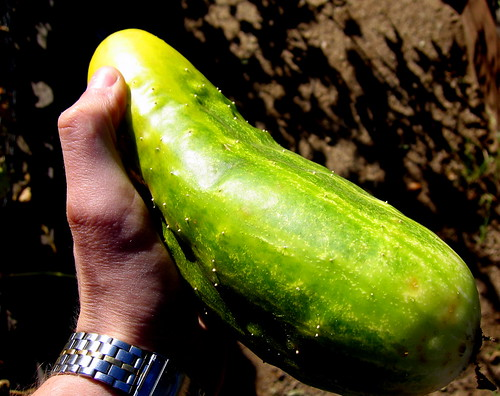cucumber: (87, 29, 482, 396)
